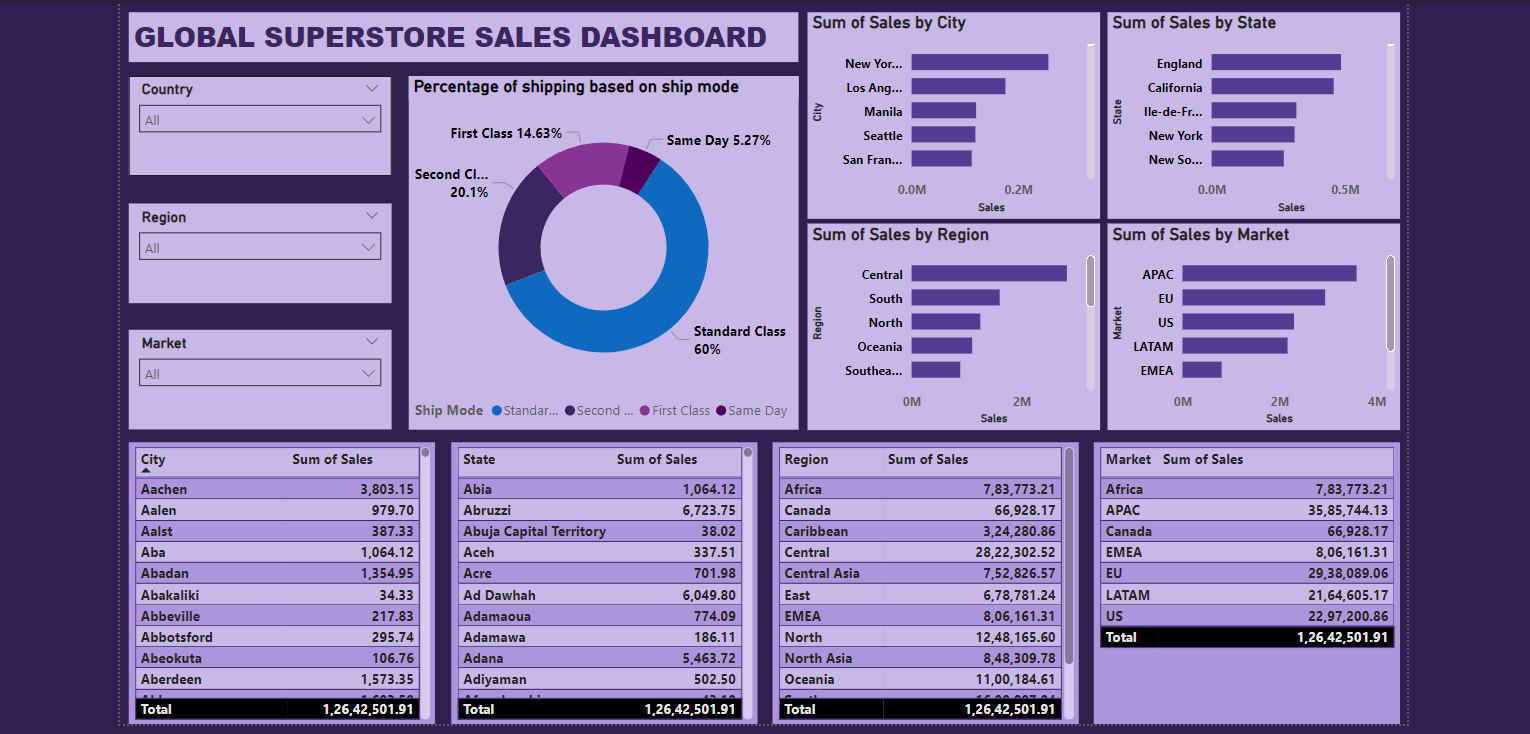

The dashboard page shown, as its layout file describes it:
{"tool":"powerbi","page":{"name":"Sales Analysis","canvas":[1280,720],"ordinal":0},"visuals":[{"type":"textbox","box":[8.7,11.2,666.8,49.8],"z":0},{"type":"donutChart","title":"Percentage of shipping based on ship mode","fields":{"Category":["Orders.Ship Mode"],"Y":["CountNonNull(Orders.Order ID)"]},"box":[287.4,74.6,388.1,352],"z":1000},{"type":"slicer","fields":{"Values":["Orders.Country"]},"box":[8.7,74.6,261.2,99.5],"z":2000},{"type":"slicer","fields":{"Values":["Orders.Region"]},"box":[8.7,201.5,261.2,99.5],"z":3000},{"type":"slicer","fields":{"Values":["Orders.Market"]},"box":[8.7,327.2,261.2,99.5],"z":4000},{"type":"barChart","fields":{"Y":["Sum(Orders.Sales)"],"Category":["Orders.City"]},"box":[684.2,11.2,291.1,205.3],"z":5000},{"type":"tableEx","fields":{"Values":["Orders.City","Sum(Orders.Sales)"]},"box":[8.7,439.1,304.8,281.1],"z":6000},{"type":"tableEx","fields":{"Values":["Orders.State","Sum(Orders.Sales)"]},"box":[329.6,439.1,304.8,281.1],"z":7000},{"type":"tableEx","fields":{"Values":["Orders.Region","Sum(Orders.Sales)"]},"box":[649.3,439.1,304.8,281.1],"z":8000},{"type":"tableEx","fields":{"Values":["Orders.Market","Sum(Orders.Sales)"]},"box":[969,439.1,304.8,281.1],"z":9000},{"type":"barChart","fields":{"Y":["Sum(Orders.Sales)"],"Category":["Orders.State"]},"box":[982.7,11.2,291.1,205.3],"z":10000},{"type":"barChart","fields":{"Y":["Sum(Orders.Sales)"],"Category":["Orders.Region"]},"box":[684.2,221.4,291.1,205.3],"z":11000},{"type":"barChart","fields":{"Y":["Sum(Orders.Sales)"],"Category":["Orders.Market"]},"box":[982.7,221.4,291.1,205.3],"z":12000}]}

Visuals, with their boxes in screenshot pixels (x1, y1, x2, y2):
textbox: detection(124, 7, 794, 57)
"Percentage of shipping based on ship mode" donutChart: detection(404, 71, 794, 424)
slicer - Orders.Country: detection(124, 71, 387, 171)
slicer - Orders.Region: detection(124, 198, 387, 298)
slicer - Orders.Market: detection(124, 325, 387, 424)
barChart - Sum(Orders.Sales) x Orders.City: detection(803, 7, 1095, 213)
tableEx - Orders.City x Sum(Orders.Sales): detection(124, 437, 430, 719)
tableEx - Orders.State x Sum(Orders.Sales): detection(447, 437, 753, 719)
tableEx - Orders.Region x Sum(Orders.Sales): detection(768, 437, 1074, 719)
tableEx - Orders.Market x Sum(Orders.Sales): detection(1089, 437, 1395, 719)
barChart - Sum(Orders.Sales) x Orders.State: detection(1102, 7, 1395, 213)
barChart - Sum(Orders.Sales) x Orders.Region: detection(803, 218, 1095, 424)
barChart - Sum(Orders.Sales) x Orders.Market: detection(1102, 218, 1395, 424)
